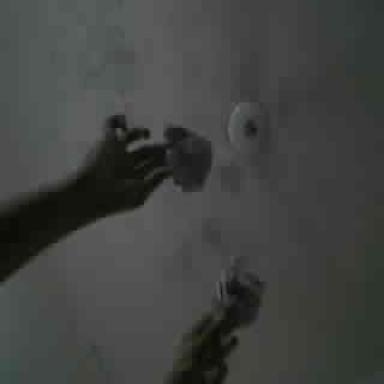paper: (217, 259, 262, 326), (166, 128, 212, 190)
